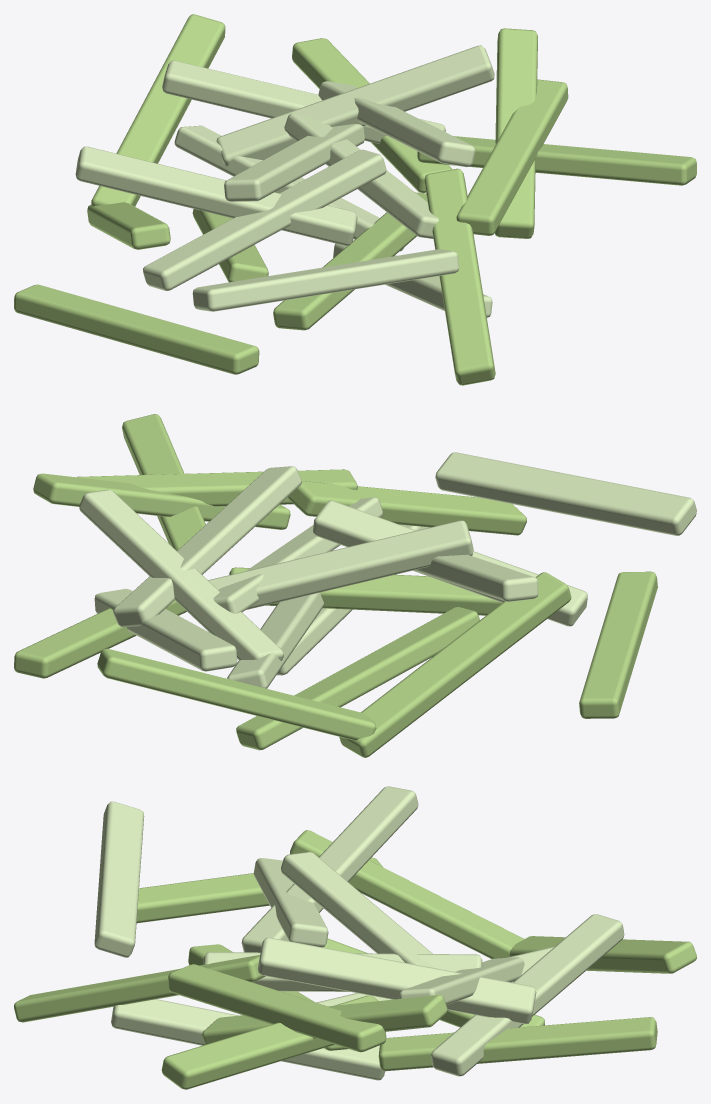
File: Cabbage_Chopped.glb
The picture shows the model from 3 angles, top to bottom: view 1: azimuth 30°, elevation 25°; view 2: azimuth 150°, elevation 25°; view 3: azimuth 270°, elevation 25°; orthographic projection. The views are drawn at different scales.
Visible parts, largest first — view 1: Cabbage_Chopped; view 2: Cabbage_Chopped; view 3: Cabbage_Chopped.
Boxes of the visible parts, x1,y1,x2,y2 form: Cabbage_Chopped: (14,14,696,385); Cabbage_Chopped: (14,414,696,757); Cabbage_Chopped: (14,786,696,1089).
Bounding box in the file's own units: 0.1186 × 0.033 × 0.1226.
